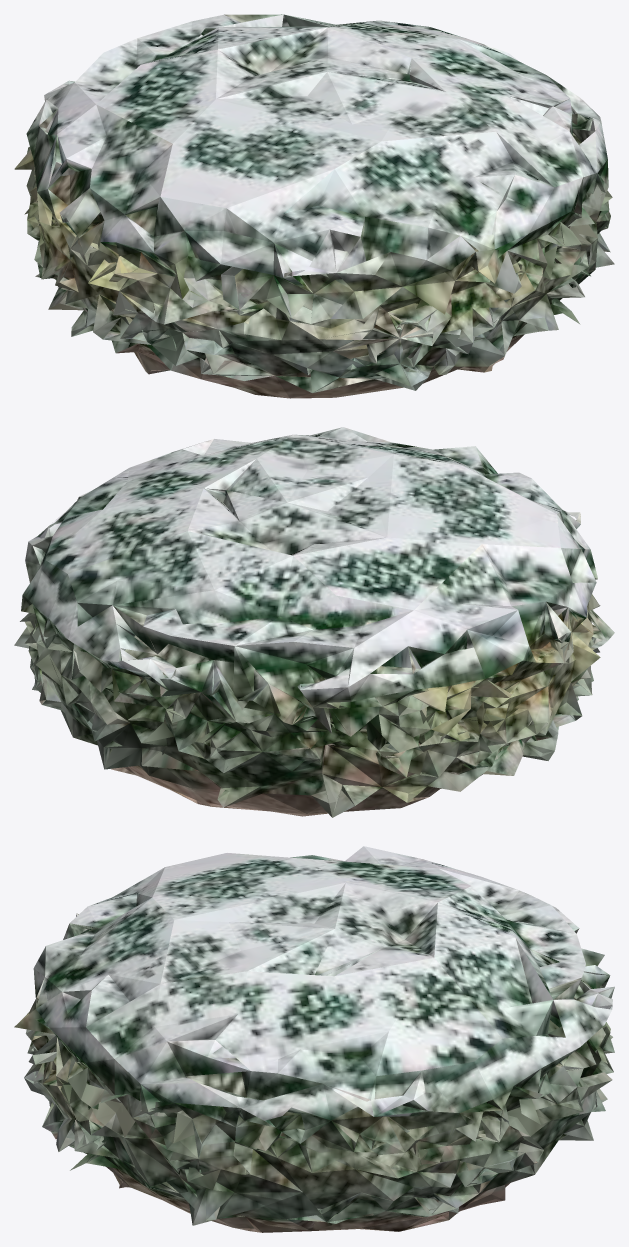
File: snowbush.glb
3 views of the same model, one above another, from view 1: azimuth 30°, elevation 25°; view 2: azimuth 150°, elevation 25°; view 3: azimuth 270°, elevation 25° (orthographic).
Parts seen in each view (by area): view 1: snowbush; view 2: snowbush; view 3: snowbush.
Boxes of the visible parts, box(x1,y1,x2,y2) form: snowbush: box(14, 14, 614, 398); snowbush: box(14, 427, 614, 817); snowbush: box(14, 846, 614, 1232).
Bounding box in the file's own units: 1.83 × 0.8004 × 1.86.
1 material, 1 textured.
